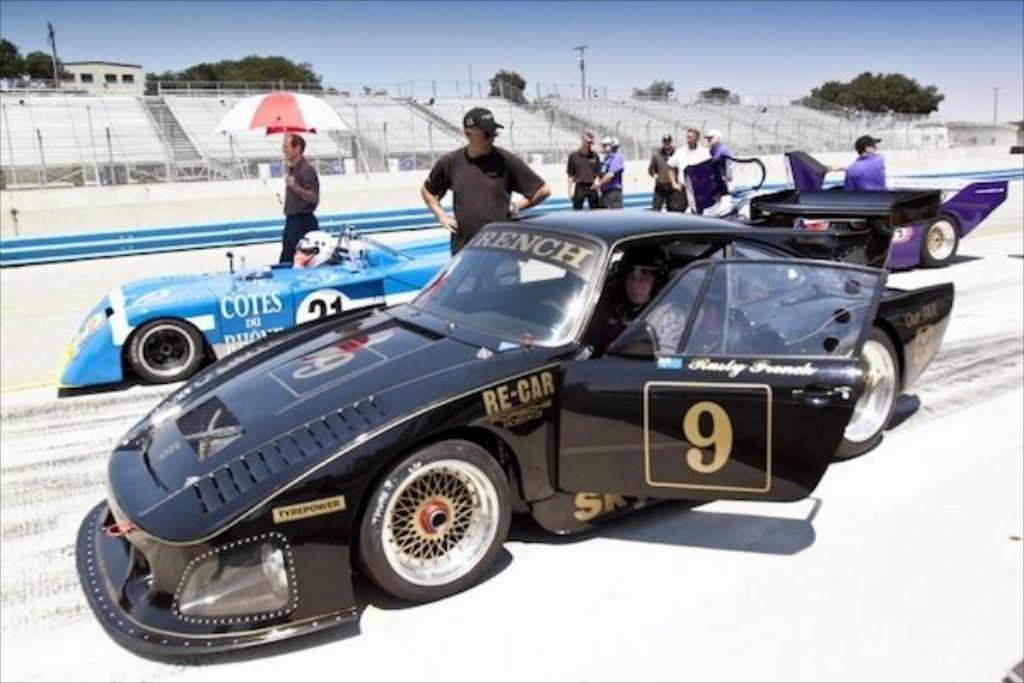mobil: (80, 220, 964, 649)
